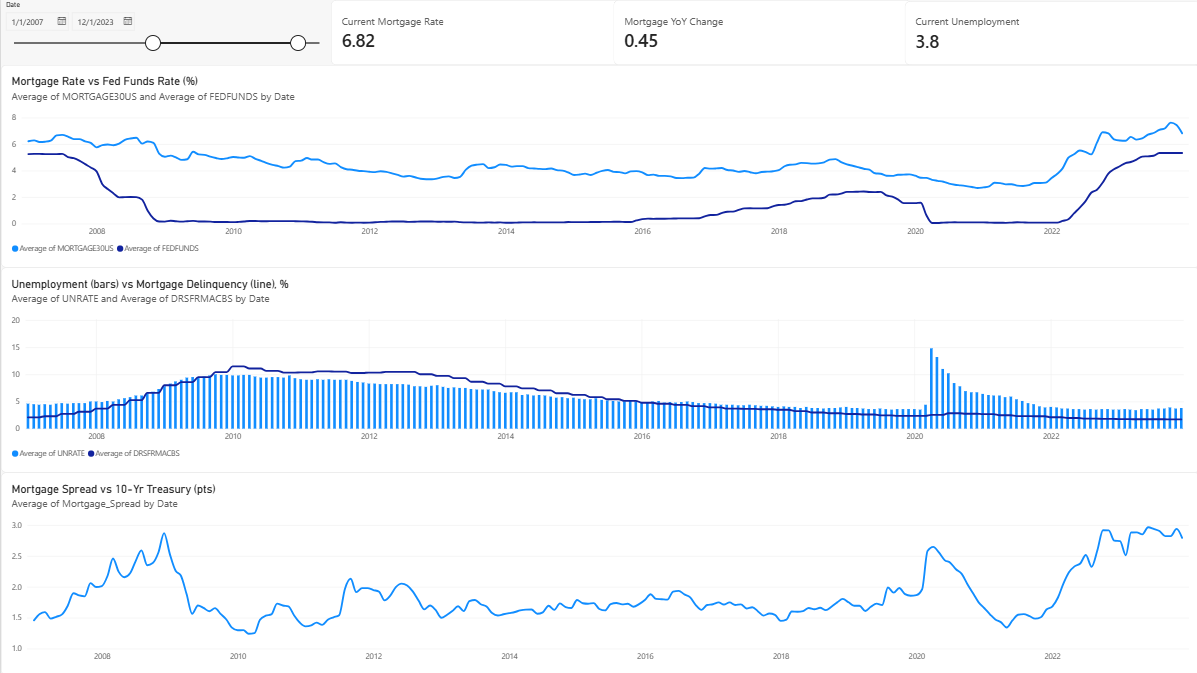

What the dashboard file says about the page in this screenshot:
{"tool":"powerbi","page":{"name":"Page 1","canvas":[1920,1080],"ordinal":0},"visuals":[{"type":"slicer","fields":{"Values":["fred_clean.Date"]},"box":[0,0,528,104],"z":0},{"type":"cardVisual","fields":{"Data":["fred_clean.Current Mortgage Rate"]},"box":[528,0,466,104],"z":1000},{"type":"cardVisual","fields":{"Data":["fred_clean.Mortgage YoY Change"]},"box":[980,0,476,104],"z":2000},{"type":"cardVisual","fields":{"Data":["fred_clean.Current Unemployment"]},"box":[1446,2,474,102],"z":3000},{"type":"lineChart","title":"Mortgage Rate vs Fed Funds Rate (%)","fields":{"Category":["fred_clean.Date"],"Y":["Avg(fred_clean.MORTGAGE30US)","Avg(fred_clean.FEDFUNDS)"]},"box":[0,104,1920,324],"z":4000},{"type":"lineClusteredColumnComboChart","title":"Unemployment (bars) vs Mortgage Delinquency (line), %","fields":{"Category":["fred_clean.Date"],"Y":["Avg(fred_clean.UNRATE)"],"Y2":["Avg(fred_clean.DRSFRMACBS)"]},"box":[0,428,1920,328],"z":5000},{"type":"lineChart","title":"Mortgage Spread vs 10-Yr Treasury (pts)","fields":{"Category":["fred_clean.Date"],"Y":["Avg(fred_clean.Mortgage_Spread)"]},"box":[0,756,1920,324],"z":6000}]}

Visuals, with their boxes in screenshot pixels (x1, y1, x2, y2), scaled from the page's 1920x1080 canvas onto the 1197x673 screenshot:
slicer - fred_clean.Date: box=[0, 0, 329, 65]
cardVisual - fred_clean.Current Mortgage Rate: box=[329, 0, 620, 65]
cardVisual - fred_clean.Mortgage YoY Change: box=[611, 0, 908, 65]
cardVisual - fred_clean.Current Unemployment: box=[901, 1, 1196, 65]
"Mortgage Rate vs Fed Funds Rate (%)" lineChart: box=[0, 65, 1196, 267]
"Unemployment (bars) vs Mortgage Delinquency (line), %" lineClusteredColumnComboChart: box=[0, 267, 1196, 471]
"Mortgage Spread vs 10-Yr Treasury (pts)" lineChart: box=[0, 471, 1196, 672]
